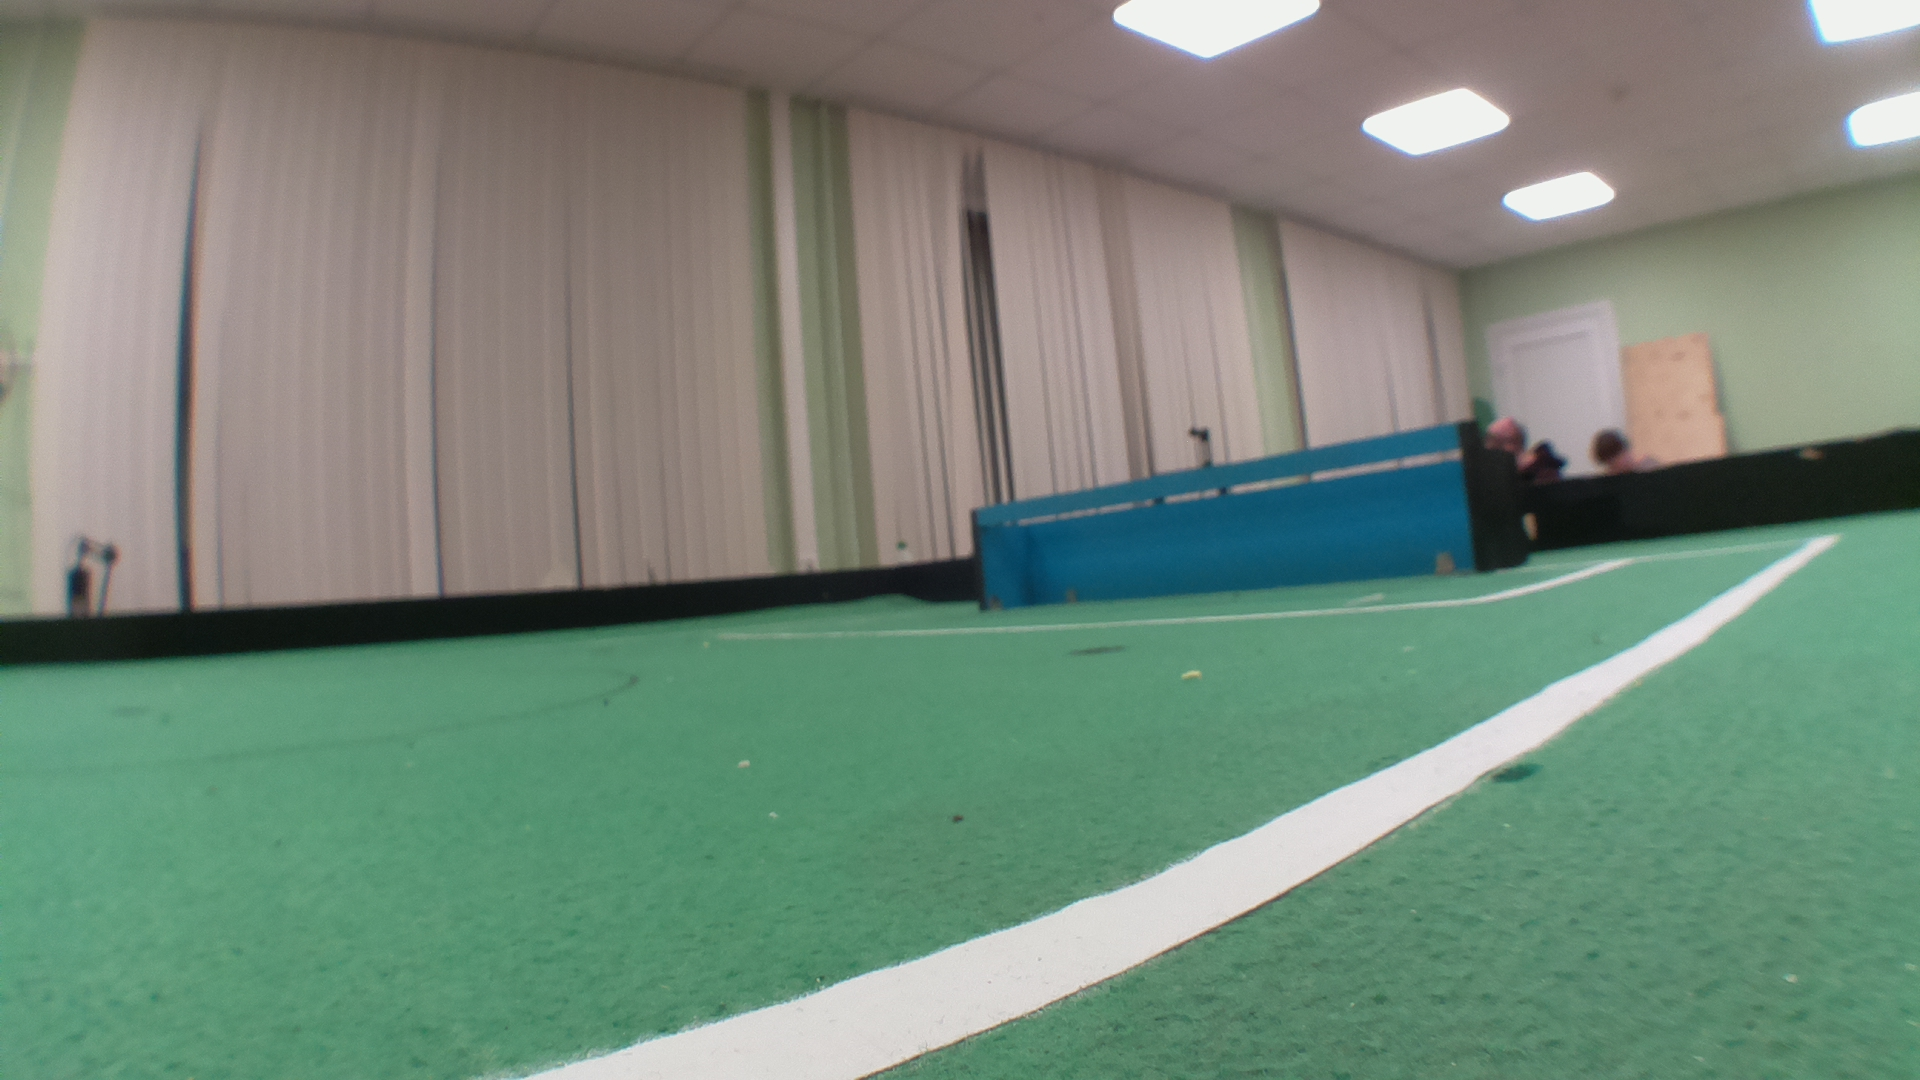BlueGoal: (981, 421, 1465, 611)
